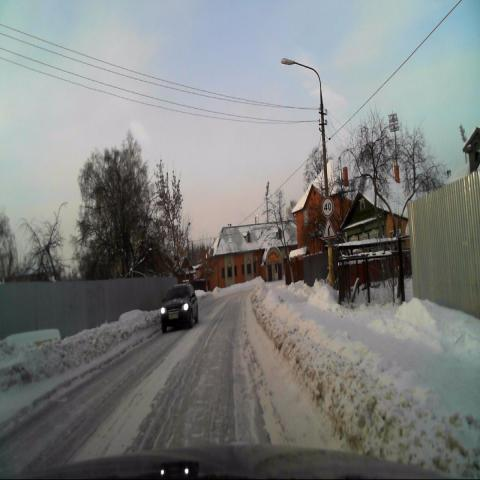1_11_1: (322, 219, 336, 239)
3_24: (321, 196, 334, 218)
